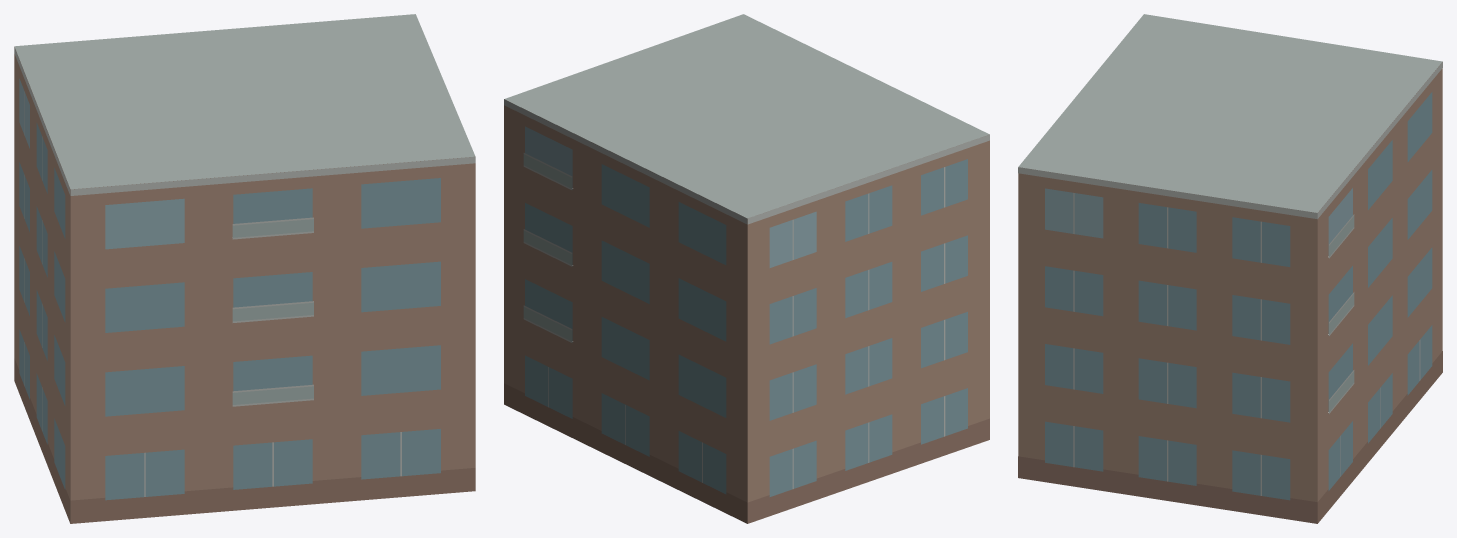
The model's file is survey-upis-32892602.glb.
3 renders of one model, left to right at view 1: azimuth 30°, elevation 25°; view 2: azimuth 150°, elevation 25°; view 3: azimuth 270°, elevation 25°, orthographic. The views are drawn at different scales.
Visible parts, largest first — view 1: survey-upis-32892602.tmp; view 2: survey-upis-32892602.tmp; view 3: survey-upis-32892602.tmp.
Part boxes in pixels (x1=…): survey-upis-32892602.tmp: x1=14, y1=14, x2=475, y2=523; survey-upis-32892602.tmp: x1=504, y1=14, x2=989, y2=523; survey-upis-32892602.tmp: x1=1018, y1=14, x2=1442, y2=523.
Bounding box in the file's own units: 16.76 × 12.2 × 15.11.
